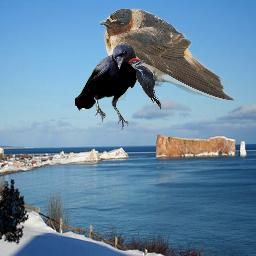Crow: (75, 44, 138, 130)
Swallow: (99, 8, 235, 101)
Woodpecker: (128, 58, 161, 110)
